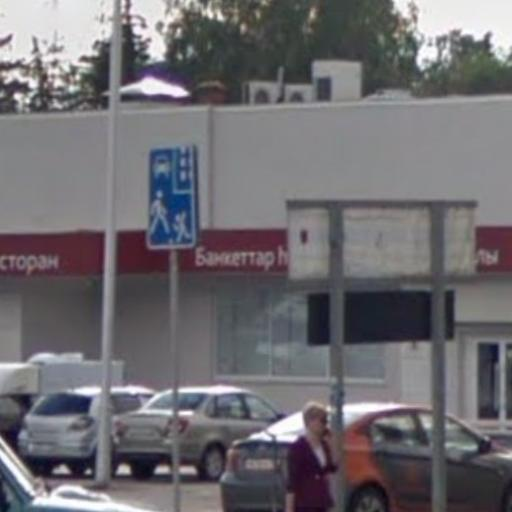traffic_sign: (148, 144, 202, 253)
